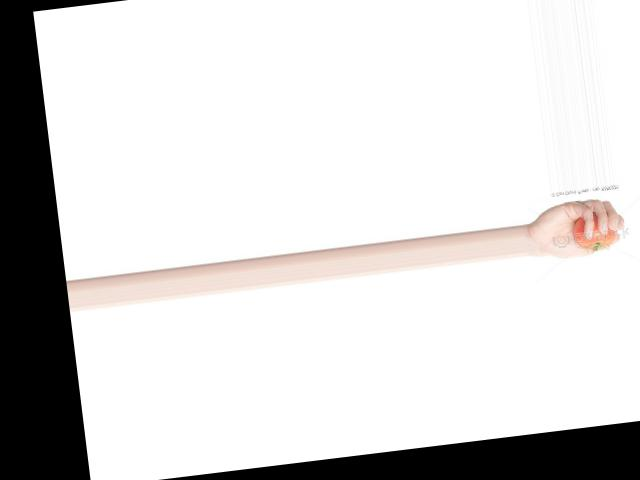tomato: (573, 210, 619, 252)
